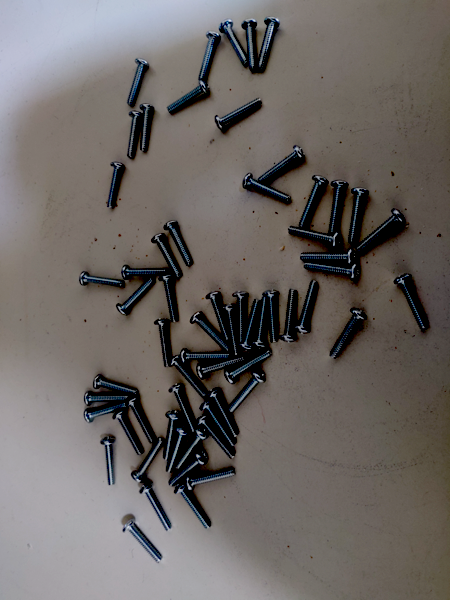longscrew: (329, 306, 367, 362), (355, 210, 405, 251), (398, 272, 429, 332), (165, 79, 214, 115), (260, 146, 303, 187), (124, 520, 163, 565), (213, 95, 263, 130), (176, 484, 212, 532), (209, 390, 246, 434), (231, 370, 267, 415), (198, 417, 234, 461), (199, 402, 235, 446), (242, 173, 288, 207), (172, 352, 204, 400), (131, 439, 164, 485), (258, 15, 286, 69), (138, 487, 171, 532), (299, 174, 327, 227), (347, 186, 372, 244), (330, 180, 355, 238), (224, 352, 271, 382), (191, 312, 227, 351), (176, 428, 208, 471), (221, 17, 248, 67), (163, 219, 192, 265), (170, 386, 197, 433), (117, 281, 152, 317), (169, 454, 207, 486), (126, 399, 154, 442), (114, 414, 144, 454), (152, 236, 180, 278), (124, 58, 148, 105), (197, 31, 221, 78), (187, 467, 236, 490), (206, 287, 226, 342), (198, 355, 248, 376), (305, 262, 360, 281), (286, 227, 341, 246), (252, 296, 271, 350), (243, 298, 262, 351), (261, 289, 280, 342), (279, 289, 298, 342), (298, 280, 317, 333), (300, 249, 355, 267), (168, 427, 189, 473), (162, 411, 183, 457), (84, 390, 127, 412), (92, 371, 135, 393), (83, 403, 125, 425), (121, 262, 164, 283), (79, 268, 121, 289), (160, 272, 177, 321), (234, 286, 248, 345), (99, 435, 114, 489), (157, 318, 173, 367), (107, 163, 123, 212), (126, 111, 142, 160), (141, 103, 157, 151), (224, 299, 237, 358), (246, 17, 256, 77)
